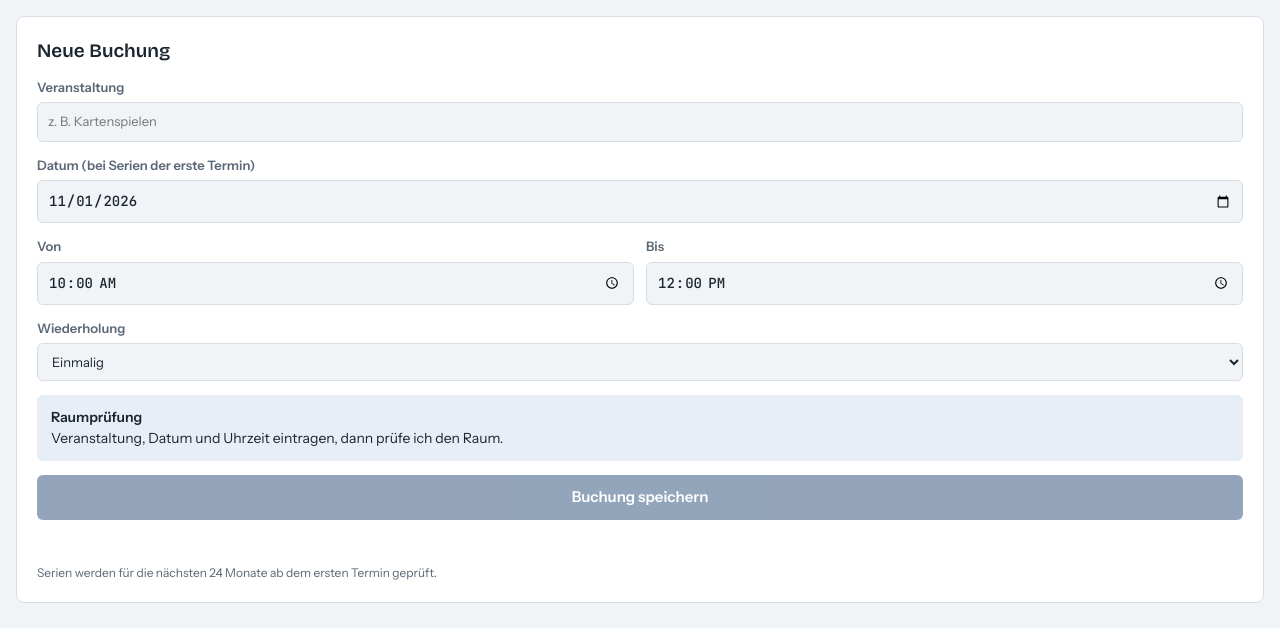
Test: BookingForm › shows "Raum bereits vergeben" for a conflicting booking
Type "Chor" into the field labelled "Veranstaltung" at (640, 122), box left=37, top=102, right=1243, bottom=142
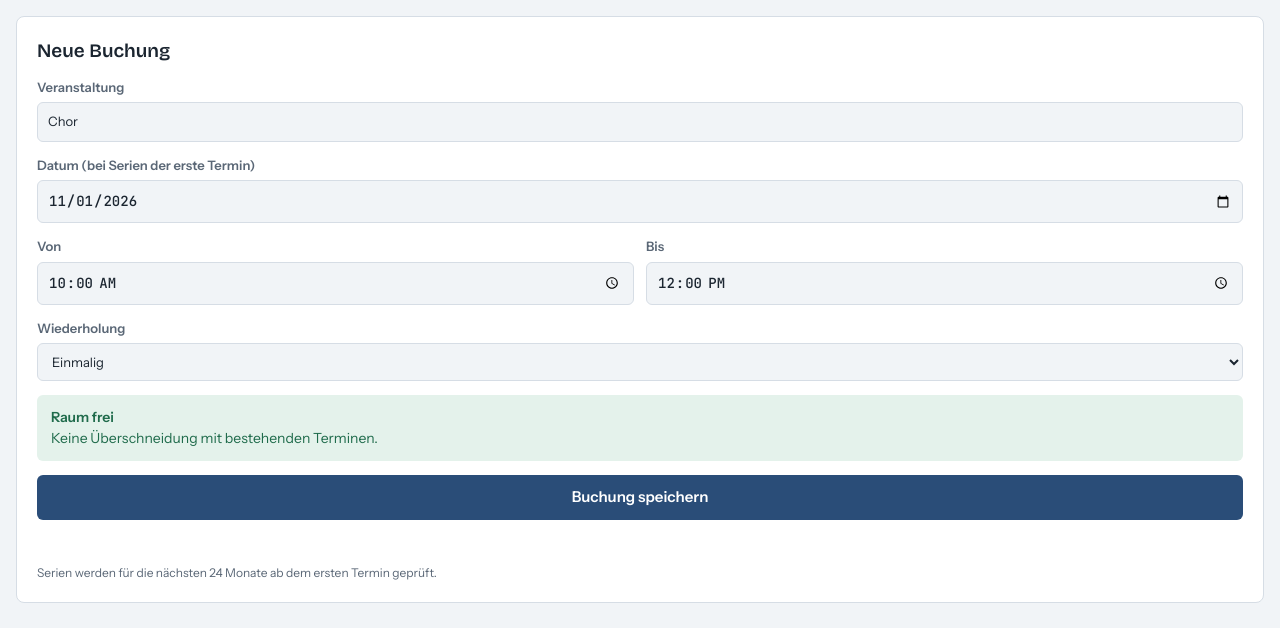
Type "2026-12-15" into the date field labelled "Datum (bei Serien der erste Termin)" at (640, 202), box left=37, top=180, right=1243, bottom=223
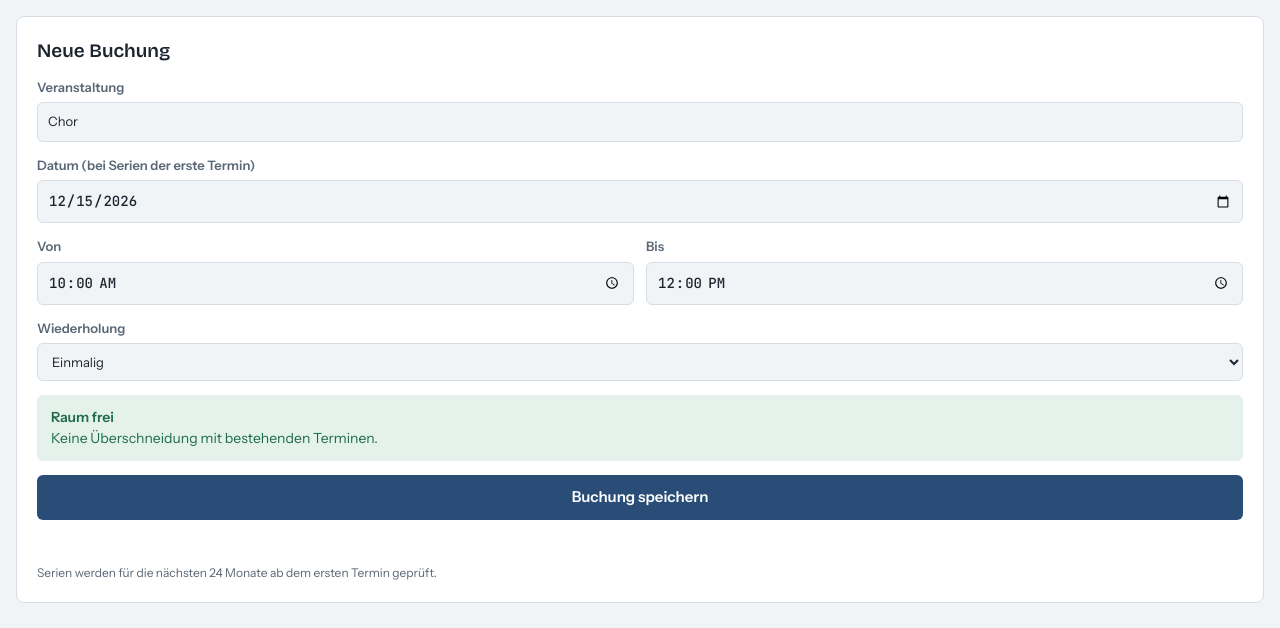
Replace the text in the time field labelled "Von" with "16:00" at (336, 283), box left=37, top=262, right=634, bottom=304
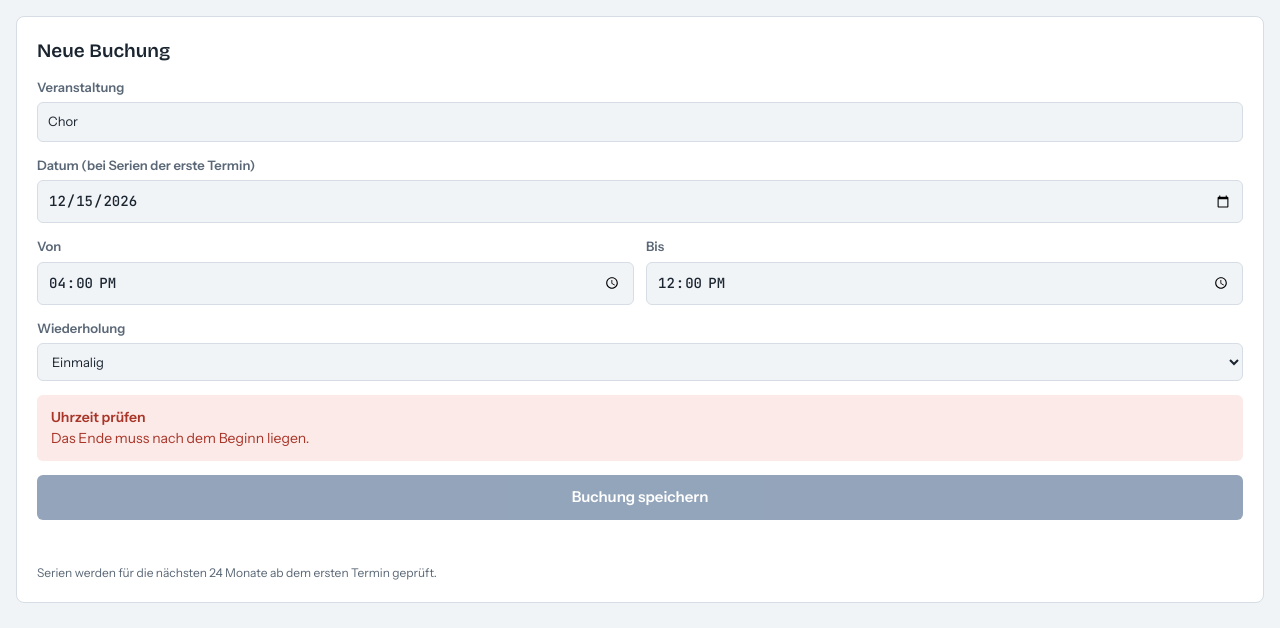
Replace the text in the time field labelled "Bis" with "18:00" at (944, 283), box left=646, top=262, right=1243, bottom=304
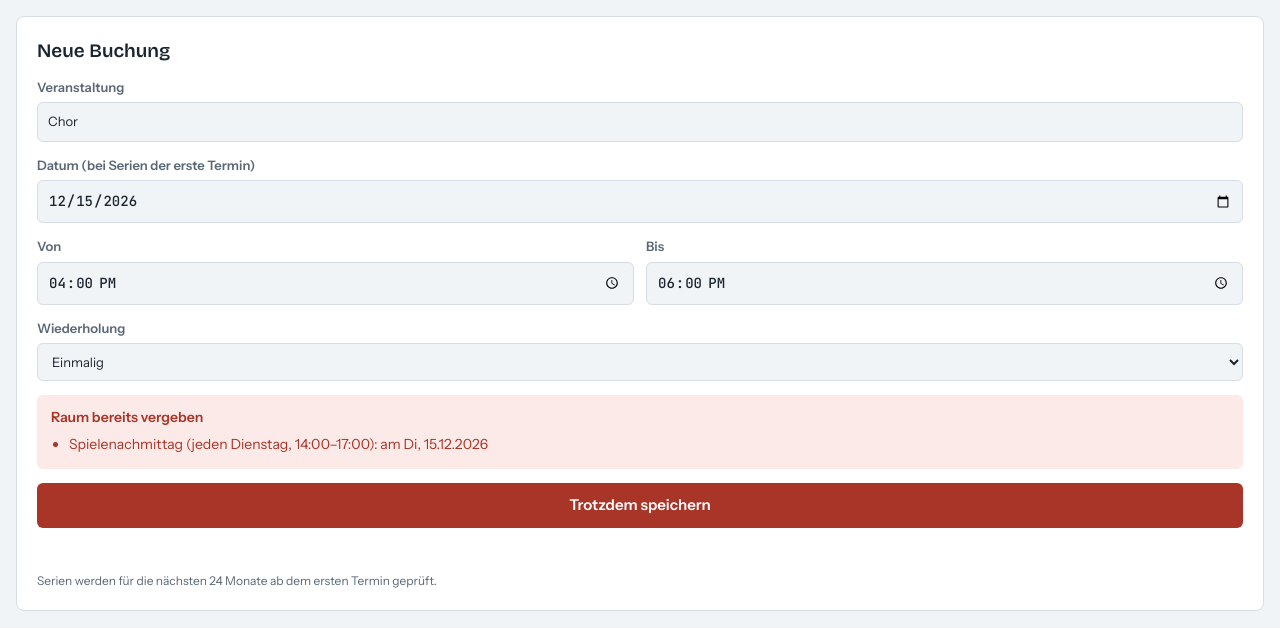
Now the message with test id "check" shows "Raum bereits vergeben", box left=51, top=408, right=203, bottom=426
Now the message with test id "check" shows "Spielenachmittag (jeden Dienstag, 14:00–17:00): am Di, 15.12.2026", box left=69, top=435, right=488, bottom=453
Now the button "Trotzdem speichern" is enabled, box left=37, top=483, right=1243, bottom=528
